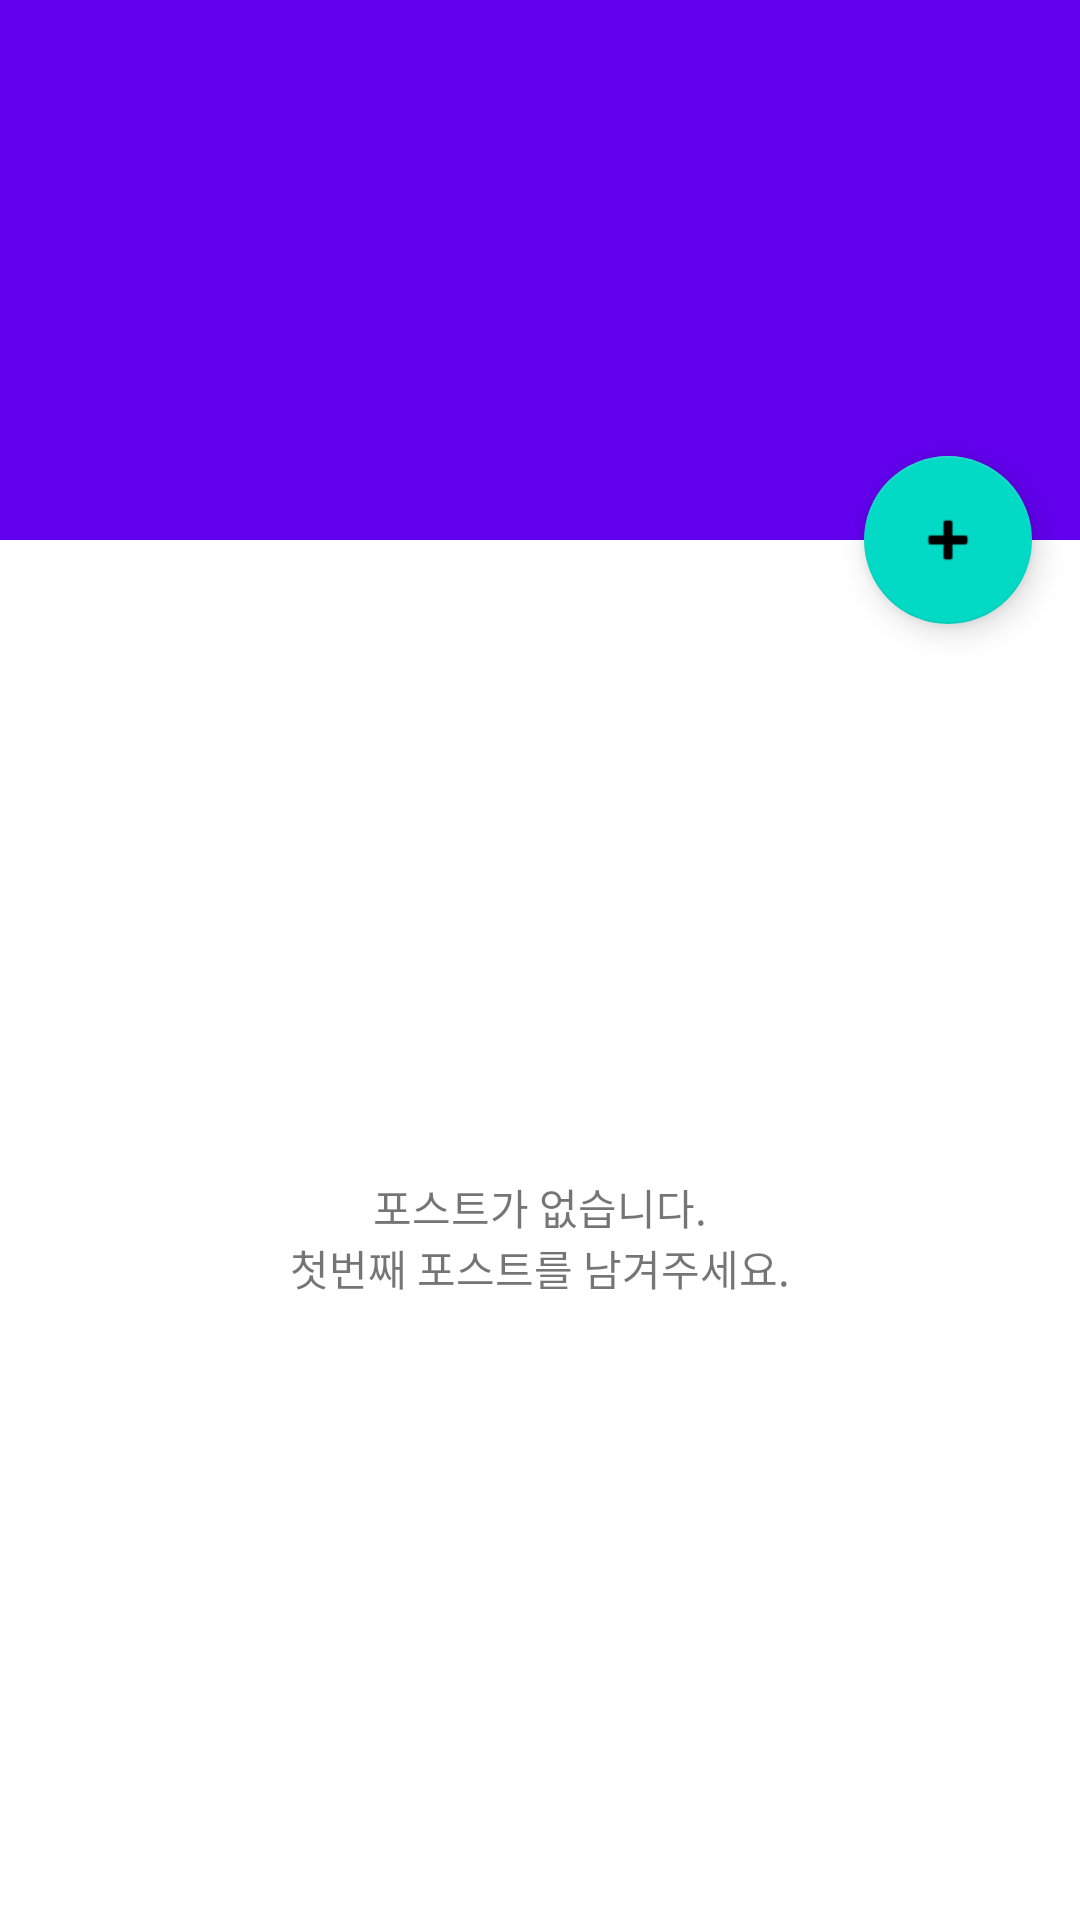

Icon click points for this 1080px×1920px phone screenshot, format point (x, y):
add: point (948, 540)
